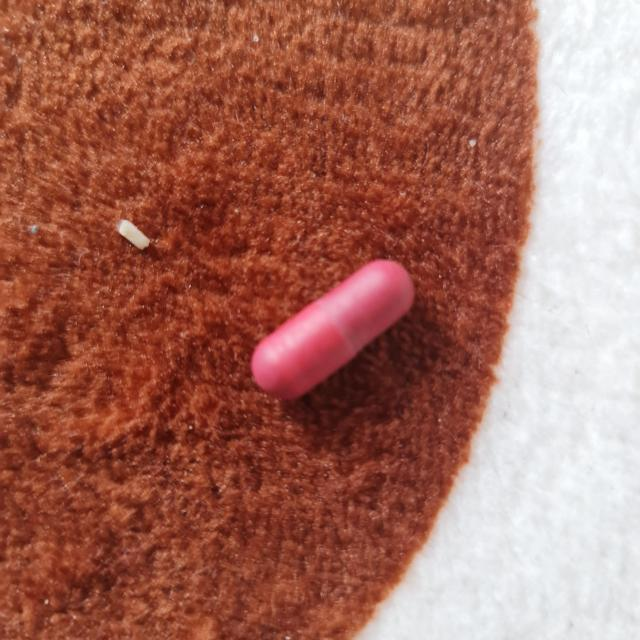pill: (248, 254, 419, 402)
